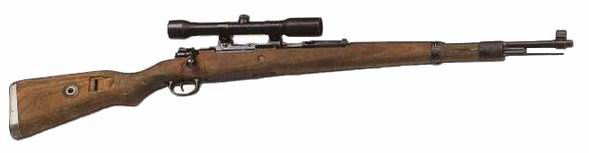Arma Real: (6, 14, 576, 139)
